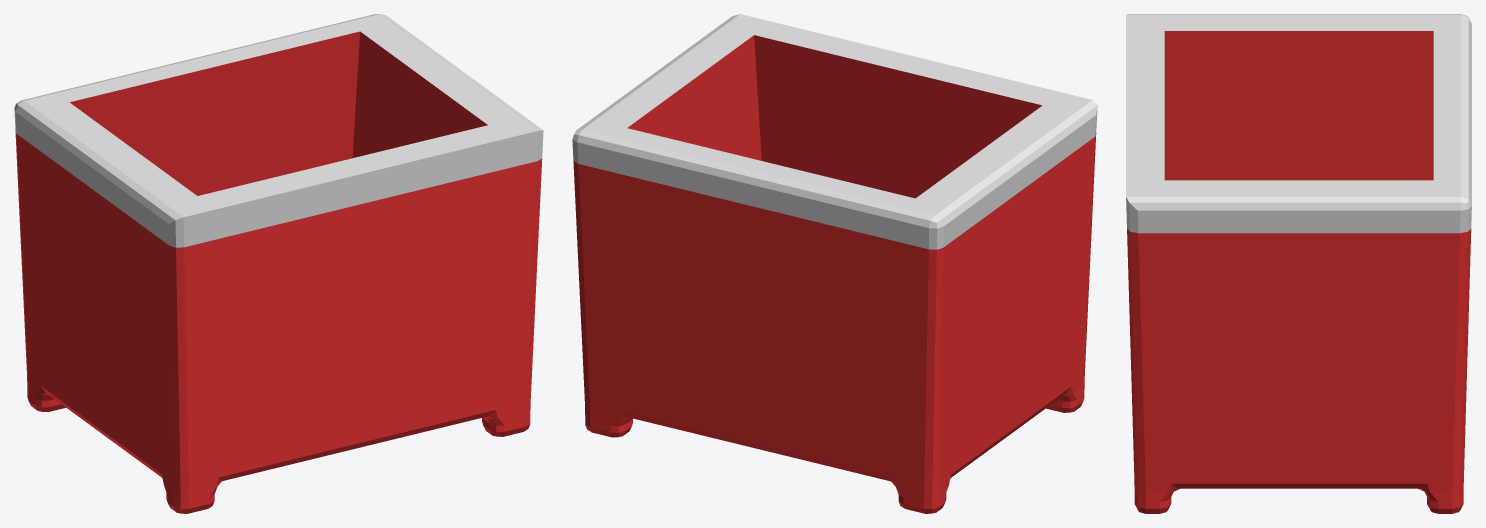
File: cooler_body.fbx
3 views of the same model, side by side, from view 1: azimuth 30°, elevation 25°; view 2: azimuth 150°, elevation 25°; view 3: azimuth 270°, elevation 25° (orthographic). The views are drawn at different scales.
Visible parts, largest first — view 1: cooler_body; view 2: cooler_body; view 3: cooler_body.
Part boxes in pixels (<box>): cooler_body: <box>14,14,543,513</box>; cooler_body: <box>572,14,1097,513</box>; cooler_body: <box>1126,14,1471,513</box>.
Size of the model in its own units: 79.83 by 62.49 by 60.97.
Materials: 1 (1 with a texture image).
